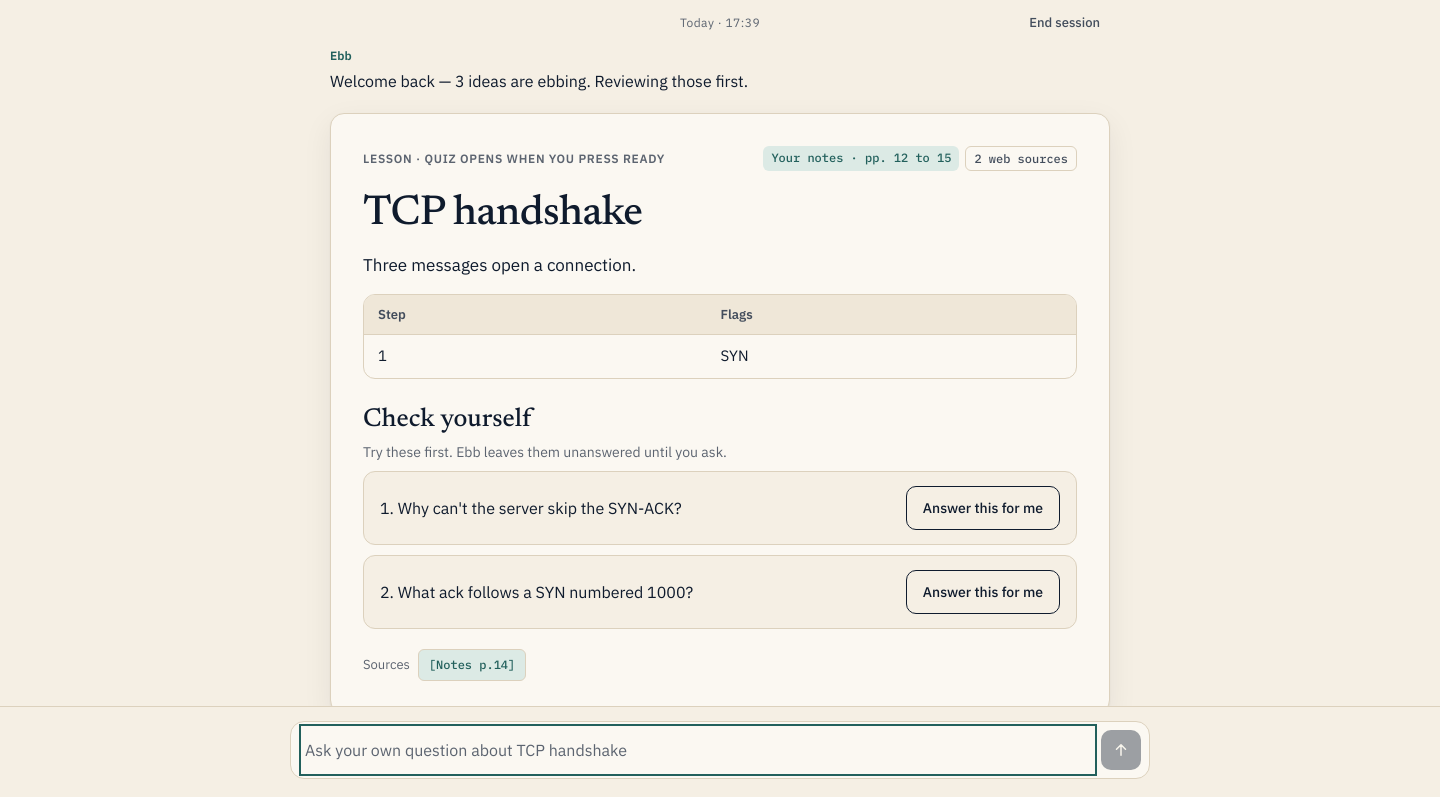
Test: the learn phase › composer placeholder names the concept during learn
Type "Is UDP the same?" into the text box with placeholder "Ask your own question about TCP handshake". click: (698, 750)
box: [305,730,1091,770]
Then press Enter
(page scrolled)
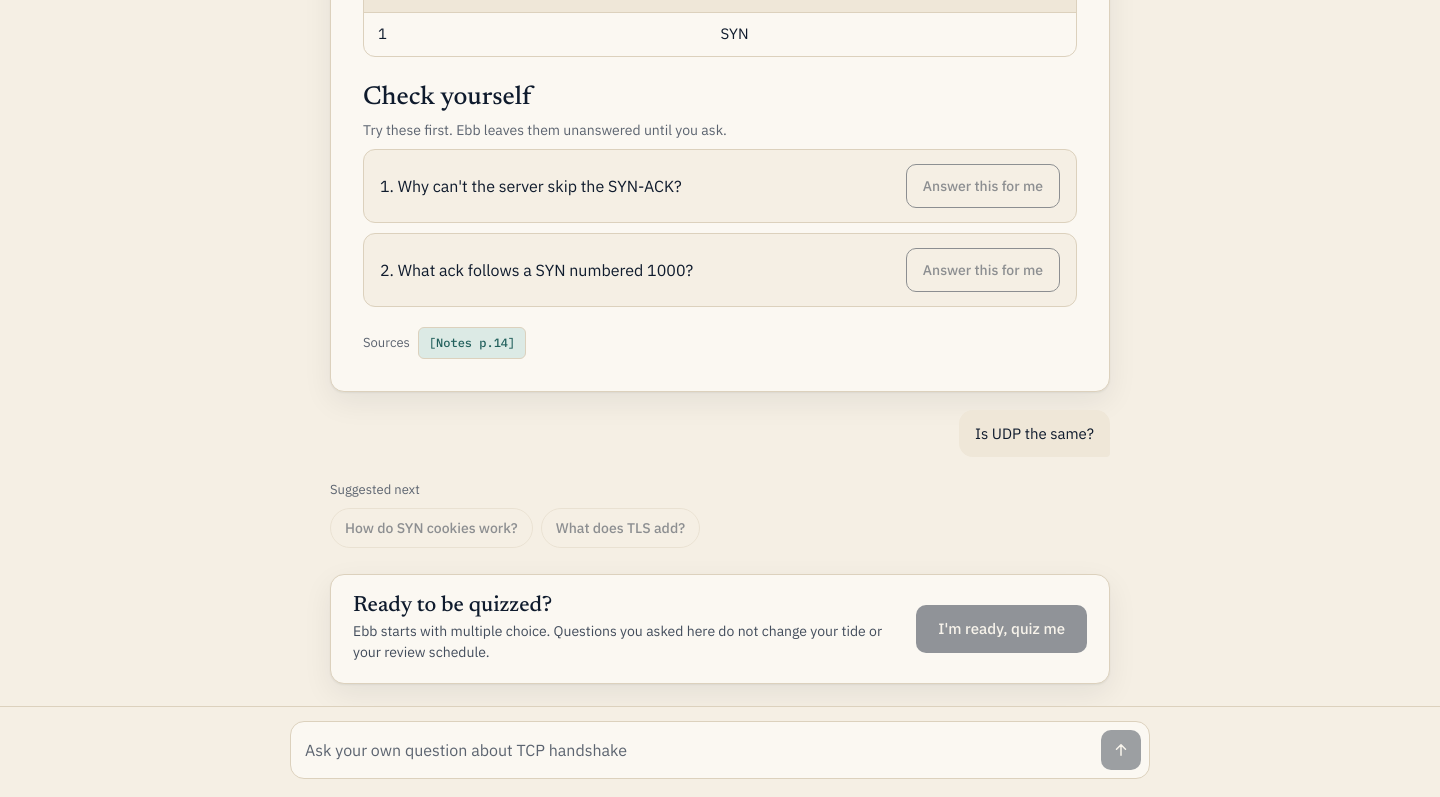
Now the text "Is UDP the same?" is shown, box [959,410,1110,457]
